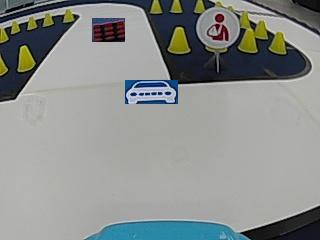cone: (167, 26, 191, 54), (237, 29, 257, 53), (17, 45, 34, 71), (269, 31, 287, 54), (255, 20, 267, 38), (239, 11, 250, 28), (149, 0, 162, 14), (62, 8, 74, 23), (0, 53, 8, 75), (42, 12, 54, 26), (0, 27, 10, 43), (170, 0, 182, 13), (26, 16, 37, 30), (10, 20, 20, 33)
patient: (200, 8, 239, 46)
